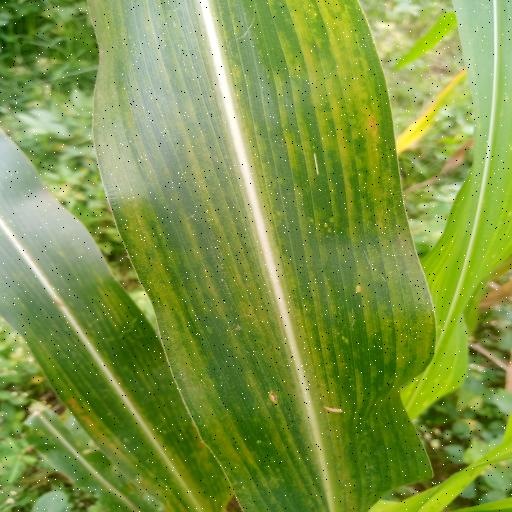Corn_Chlorotic_Leaf_Spot: (82, 0, 447, 512)
